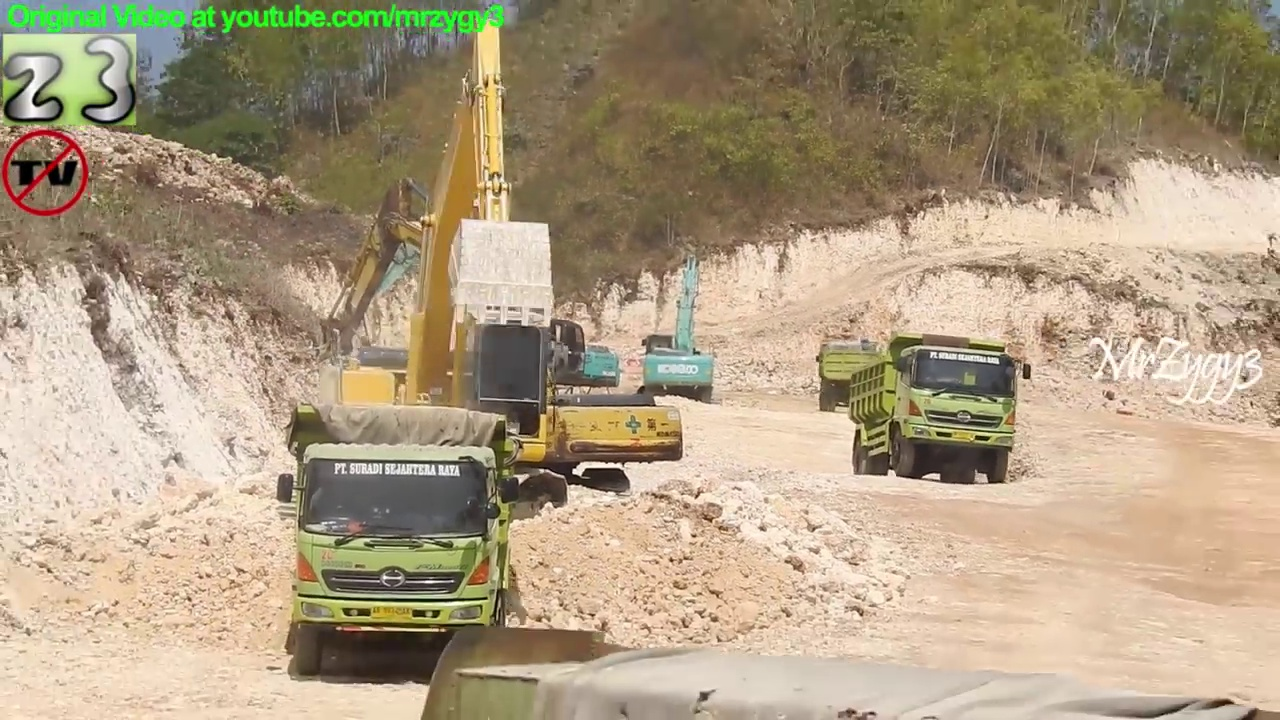excavator: (275, 12, 585, 533), (315, 172, 688, 513), (333, 210, 633, 437), (630, 244, 723, 410)
truck: (413, 621, 1280, 720), (275, 402, 529, 681), (847, 331, 1036, 489), (807, 328, 916, 420)
